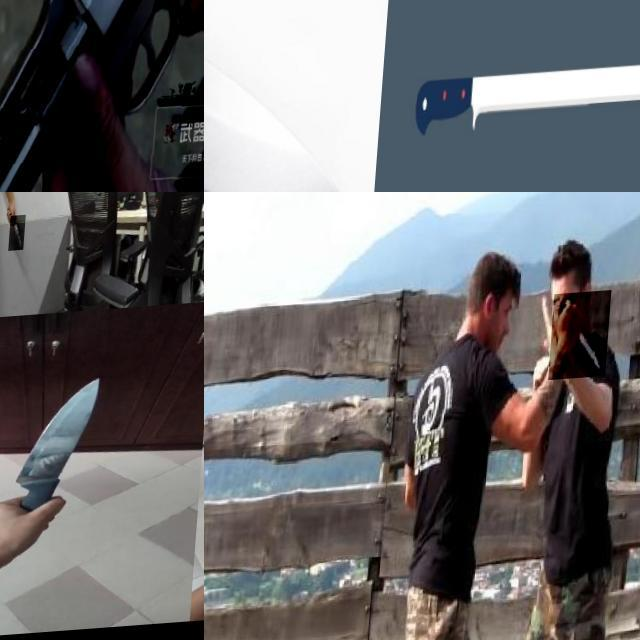-: (461, 0, 640, 192), (204, 15, 379, 192), (29, 380, 112, 500), (552, 297, 614, 386), (12, 216, 29, 252), (204, 97, 209, 109)
gun-knife-thesis - v11 Yolov5 augmented: (0, 0, 204, 192)
